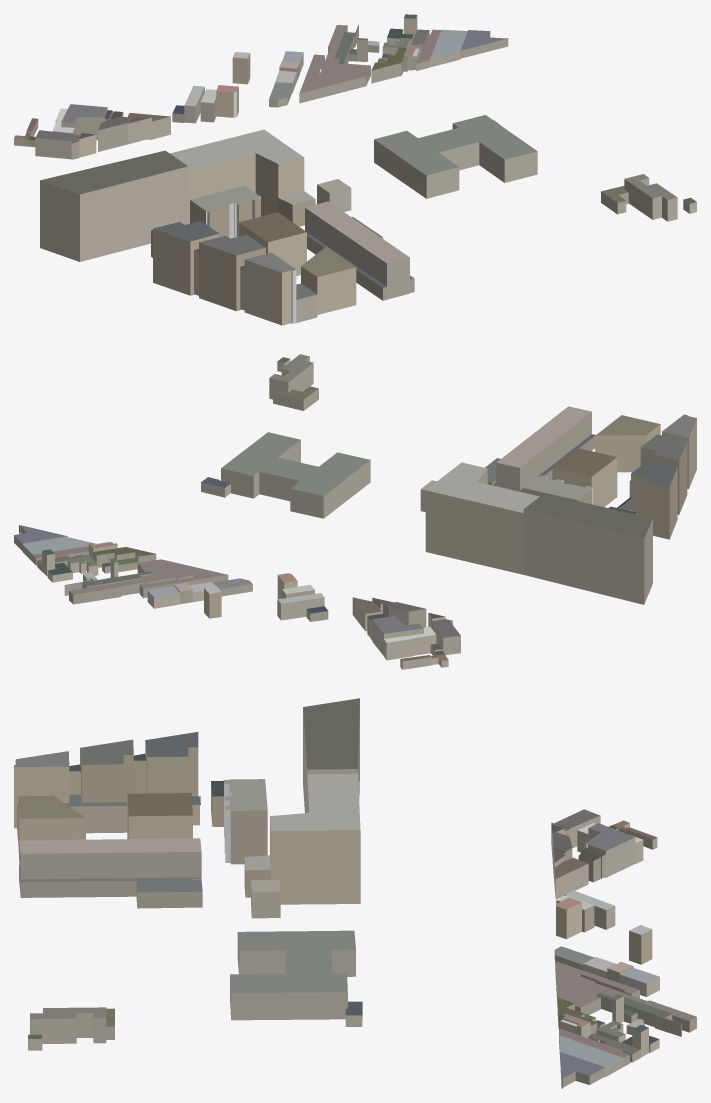
3 renders of one model, top to bottom at view 1: azimuth 30°, elevation 25°; view 2: azimuth 150°, elevation 25°; view 3: azimuth 270°, elevation 25°, orthographic. The views are drawn at different scales.
Visible parts, largest first — view 1: tuile; view 2: tuile; view 3: tuile.
Part boxes in pixels (bbox=[...]): tuile: bbox=[14, 14, 696, 325]; tuile: bbox=[14, 354, 696, 669]; tuile: bbox=[14, 698, 696, 1088].
Bounding box in the file's own units: 283 × 34.1 × 259.
